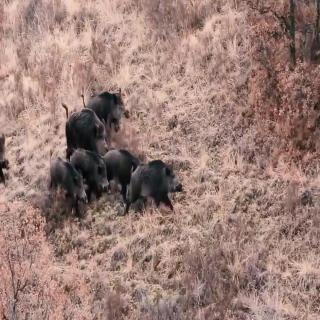Pig: (46, 145, 86, 216), (124, 160, 170, 221), (72, 140, 115, 197), (66, 96, 106, 153), (91, 78, 123, 118)
